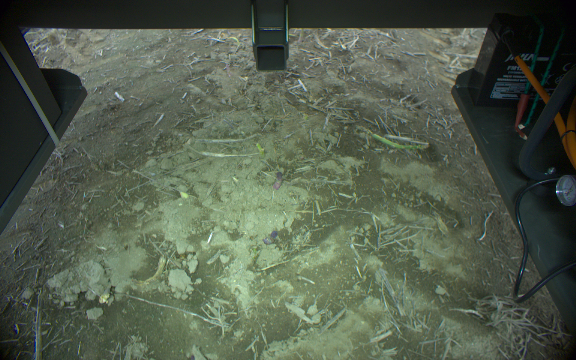aspa: (370, 130, 432, 154)
